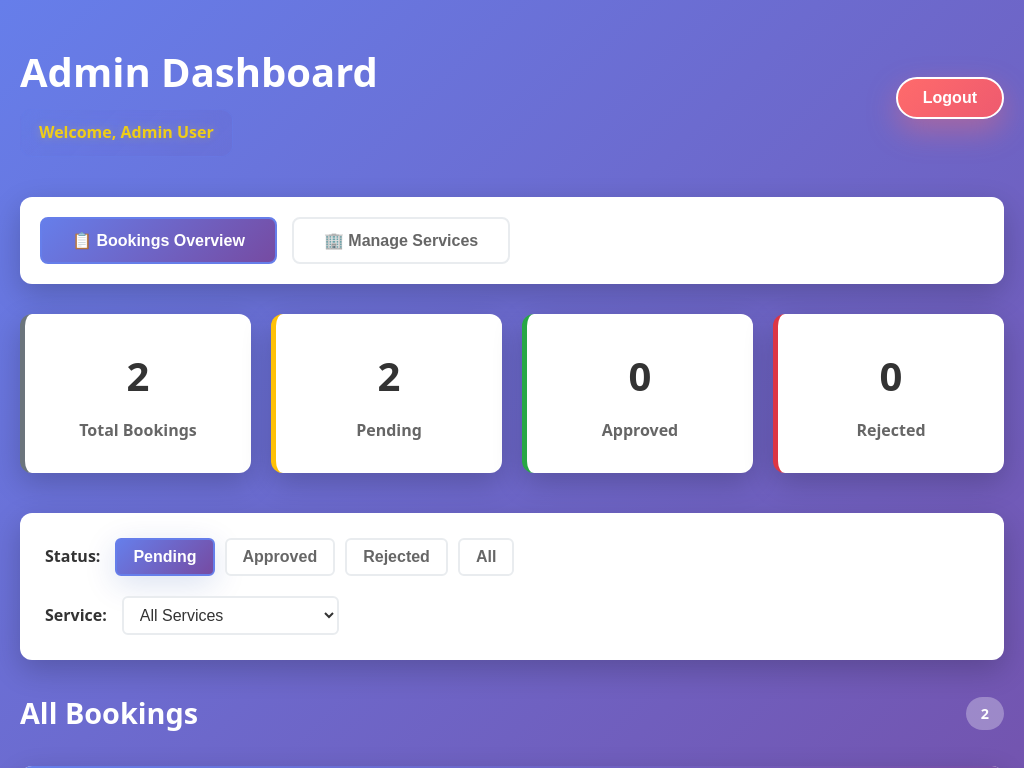
Test: AdminDashboard Page Component › switches to Manage Services tab
Click the button "🏢 Manage Services" at point(401, 240), box [292, 217, 510, 264]
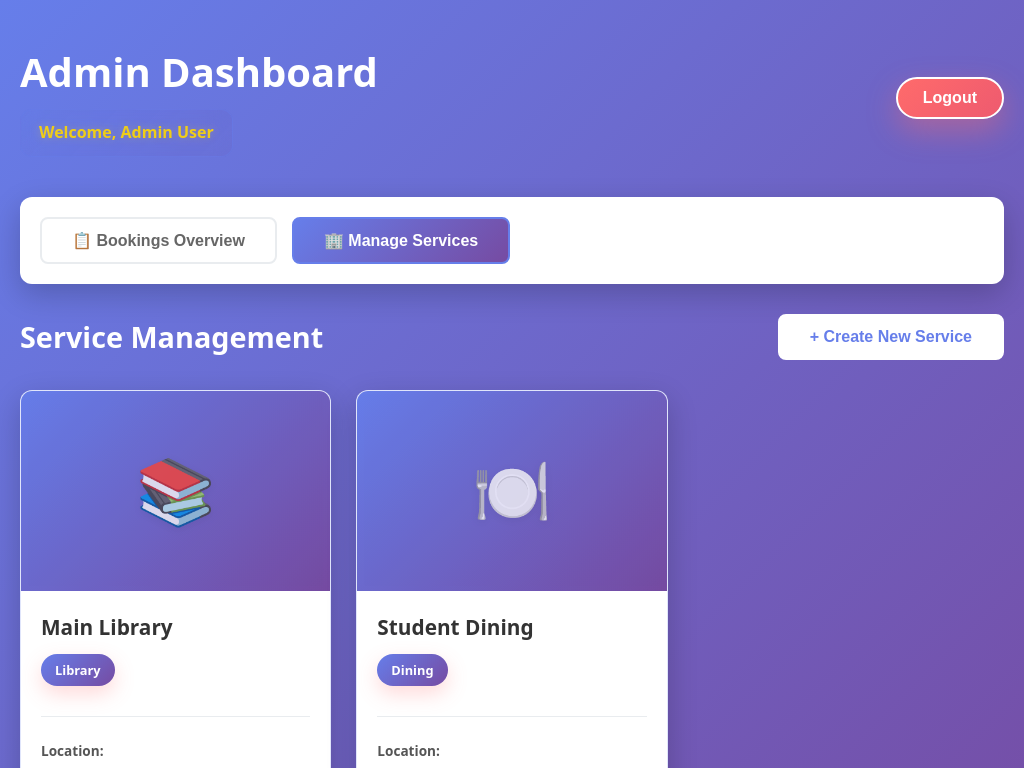
Check: the heading "Service Management" is shown, box [20, 314, 323, 360]
Check: the button "+ Create New Service" is shown, box [778, 314, 1004, 360]
